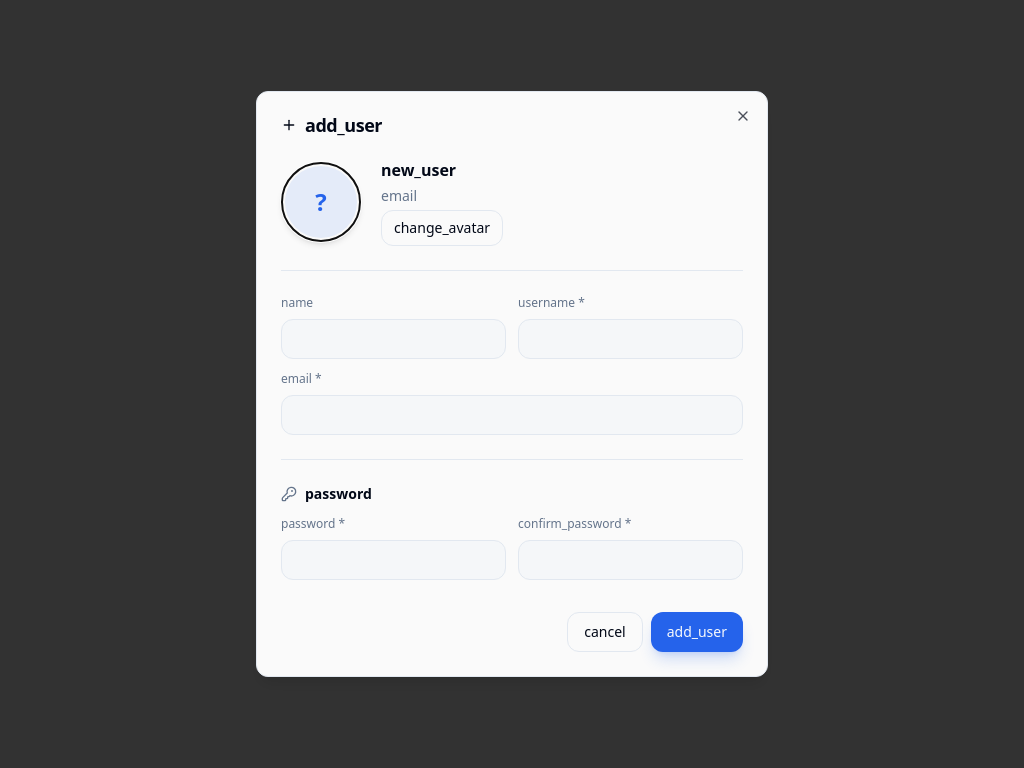
Test case: AddUserModal › shows validation errors on empty submission
What coordinates should you click on to do the following:
click the submit button
I would click on:
 (697, 632)
Its box is [651,612,743,652].
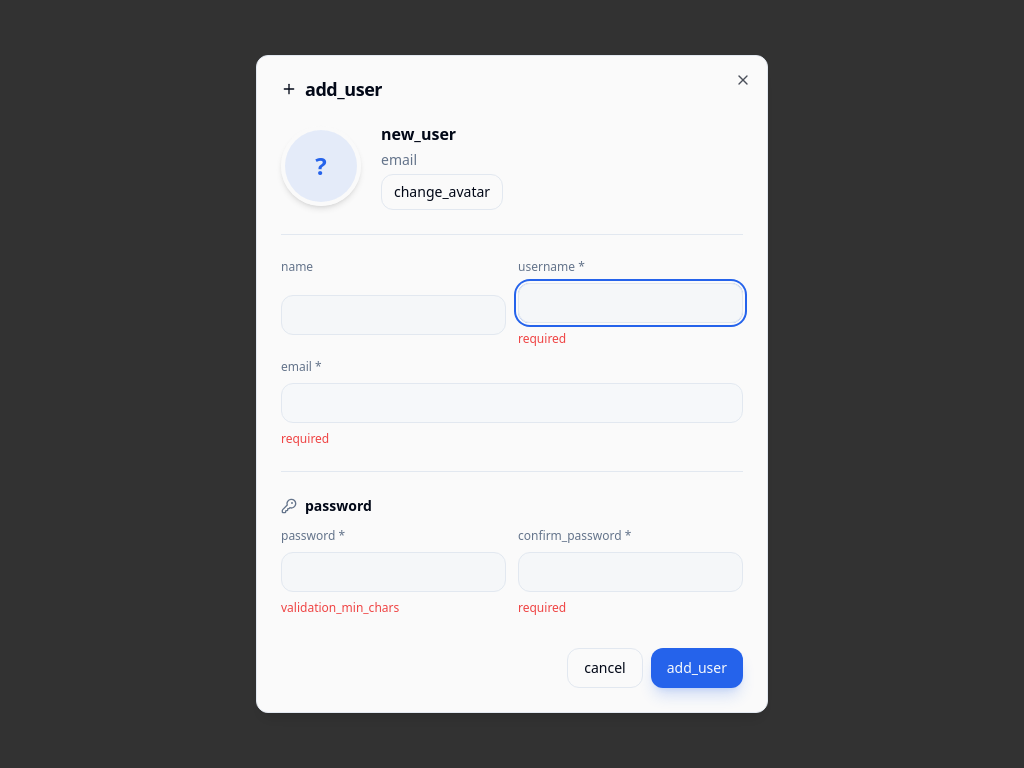
Expected: the text "required" is shown 3 times, [518,330,566,347]; [281,430,329,447]; [518,599,566,616]
